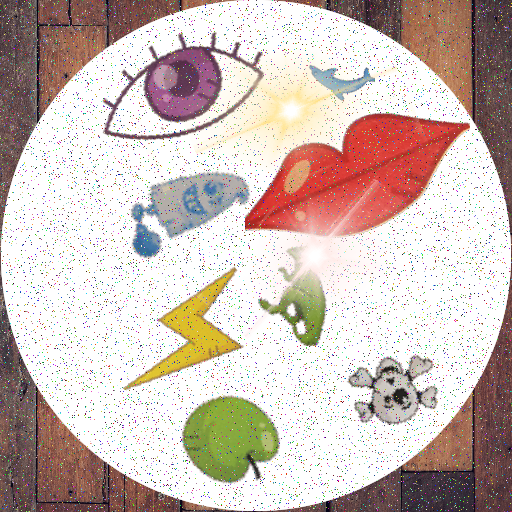apple_icon: (181, 383, 284, 486)
dino_icon: (258, 246, 358, 346)
dolphin_icon: (307, 45, 375, 113)
eye_icon: (94, 5, 269, 180)
ghost_icon: (120, 141, 256, 277)
lightning_icon: (103, 252, 267, 416)
lips_icon: (245, 77, 470, 302)
skull_icon: (341, 341, 443, 443)
